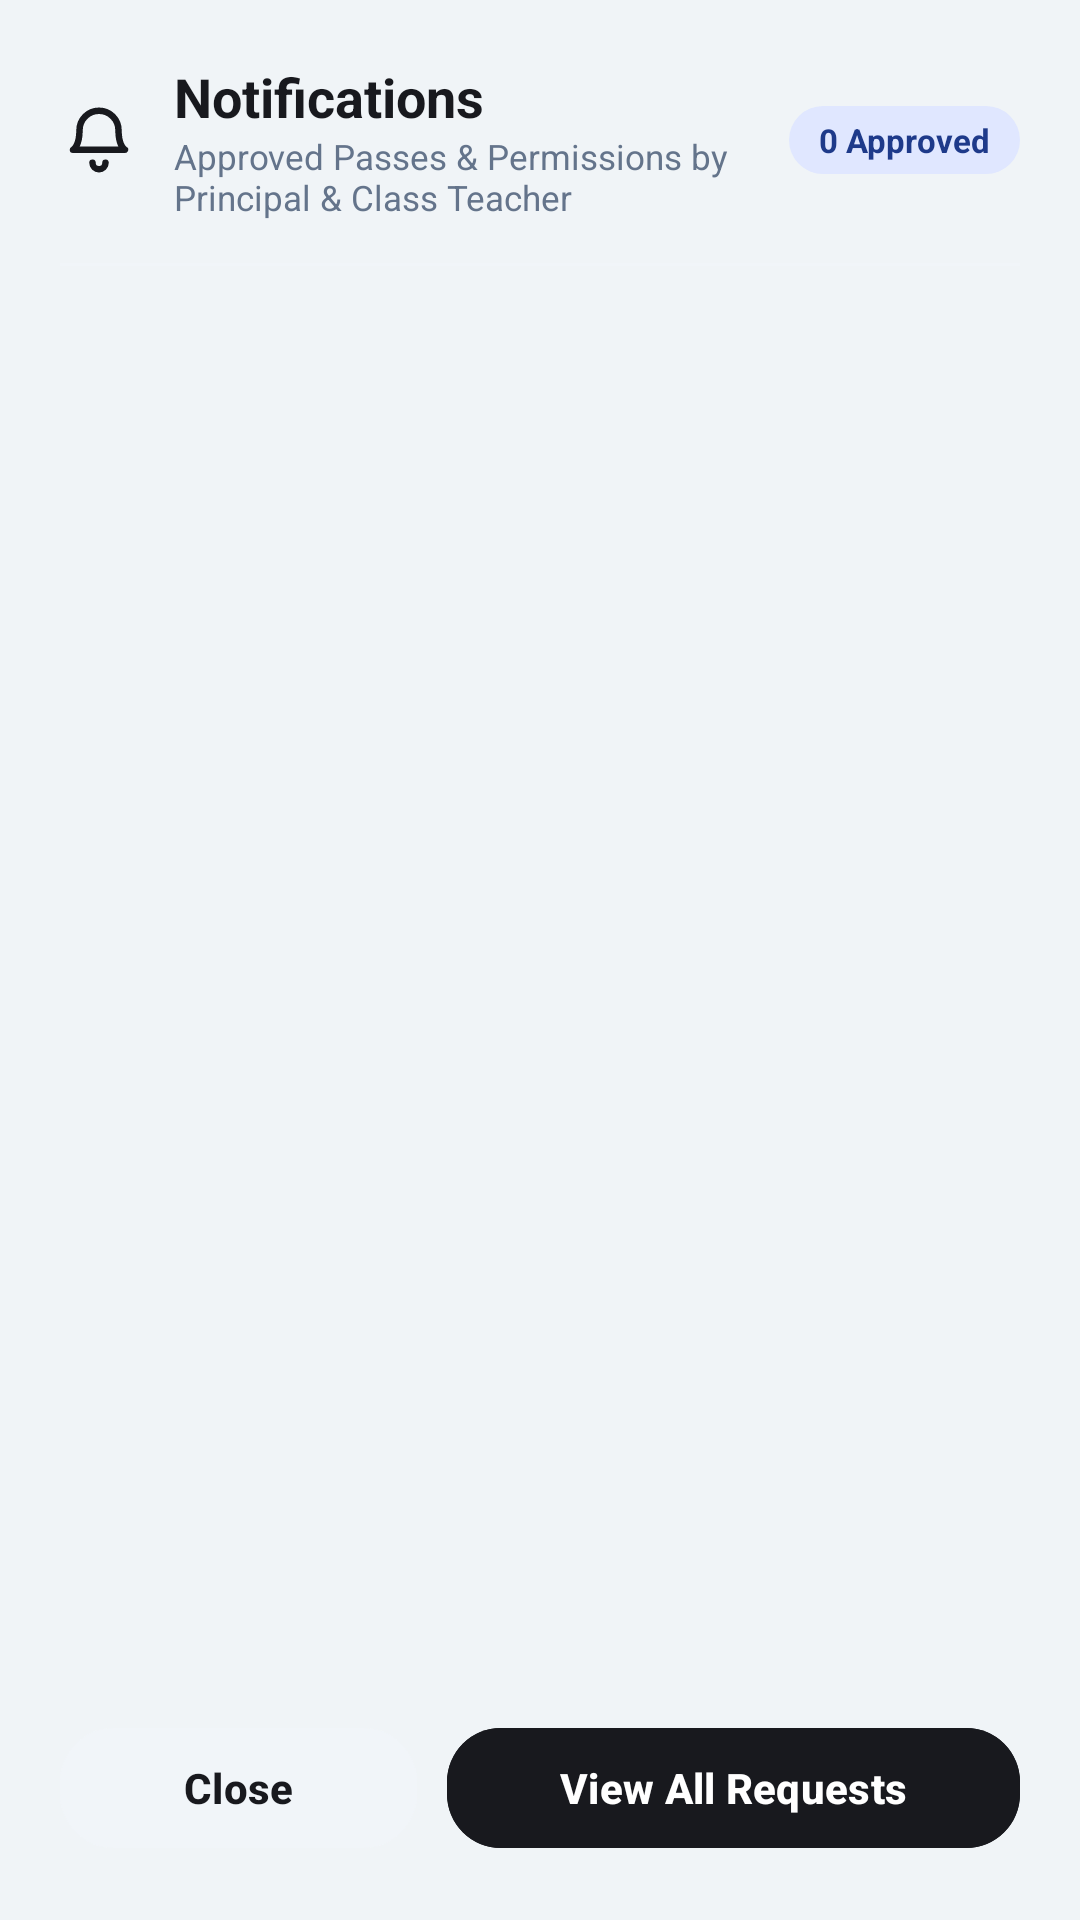

Icons on this 1080px×1920px Android screen, each with the point to tap as [x,y]:
bell: [99,140]
